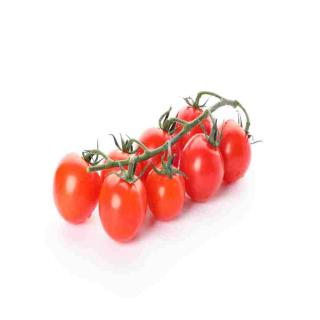Tomat: (99, 152, 148, 243), (180, 120, 226, 203), (53, 153, 102, 226), (146, 146, 188, 222), (218, 119, 253, 185)
